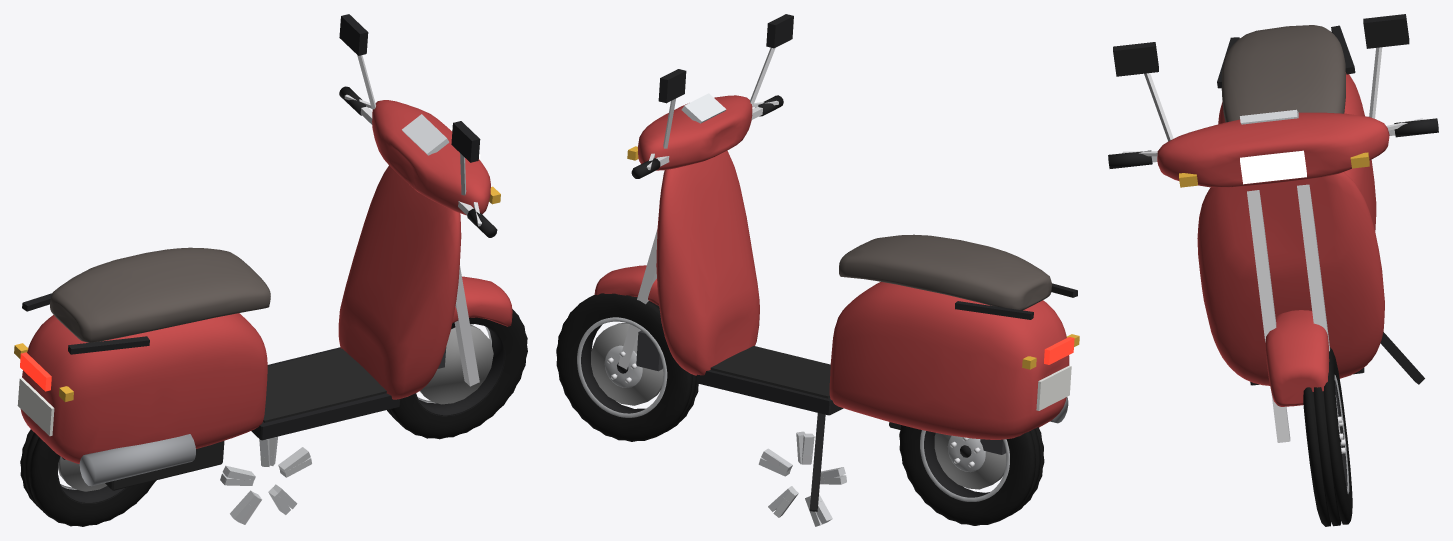
File: bike_scooter_1.glb
3 views of the same model, side by side, from view 1: azimuth 30°, elevation 25°; view 2: azimuth 150°, elevation 25°; view 3: azimuth 270°, elevation 25° (orthographic). The views are drawn at different scales.
Visible parts, largest first — view 1: bike_scooter_1; view 2: bike_scooter_1; view 3: bike_scooter_1.
Part boxes in pixels (x1,y1,x2,y2): bike_scooter_1: [14, 14, 527, 526]; bike_scooter_1: [556, 14, 1079, 526]; bike_scooter_1: [1108, 14, 1438, 526].
Bounding box in the file's own units: 1.81 × 1.56 × 0.918.
